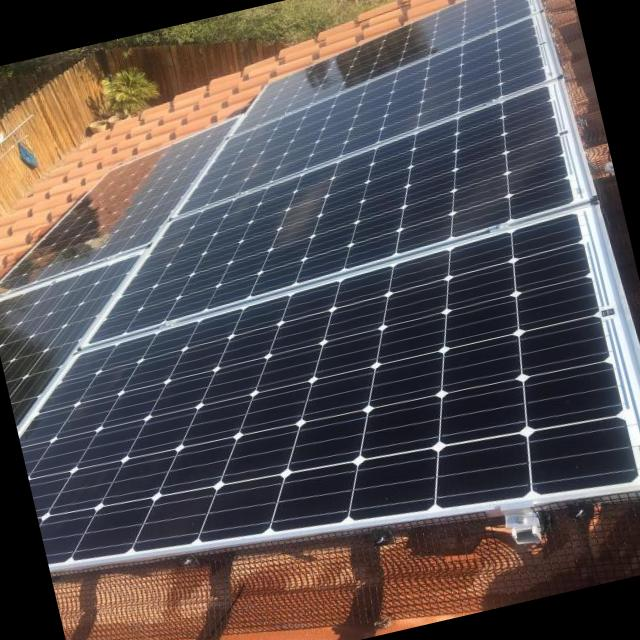no faulty: (21, 218, 635, 563), (94, 92, 572, 340), (183, 20, 547, 210), (0, 125, 229, 289), (237, 0, 526, 129), (0, 253, 136, 426)
